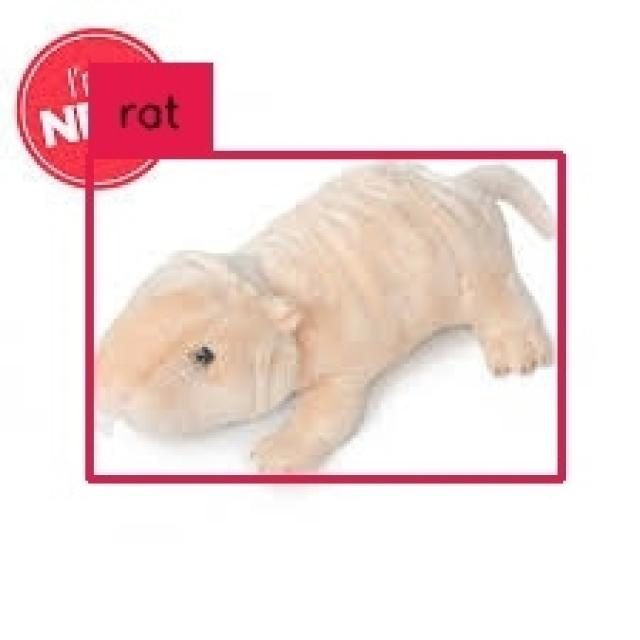rat: (89, 156, 562, 478)
